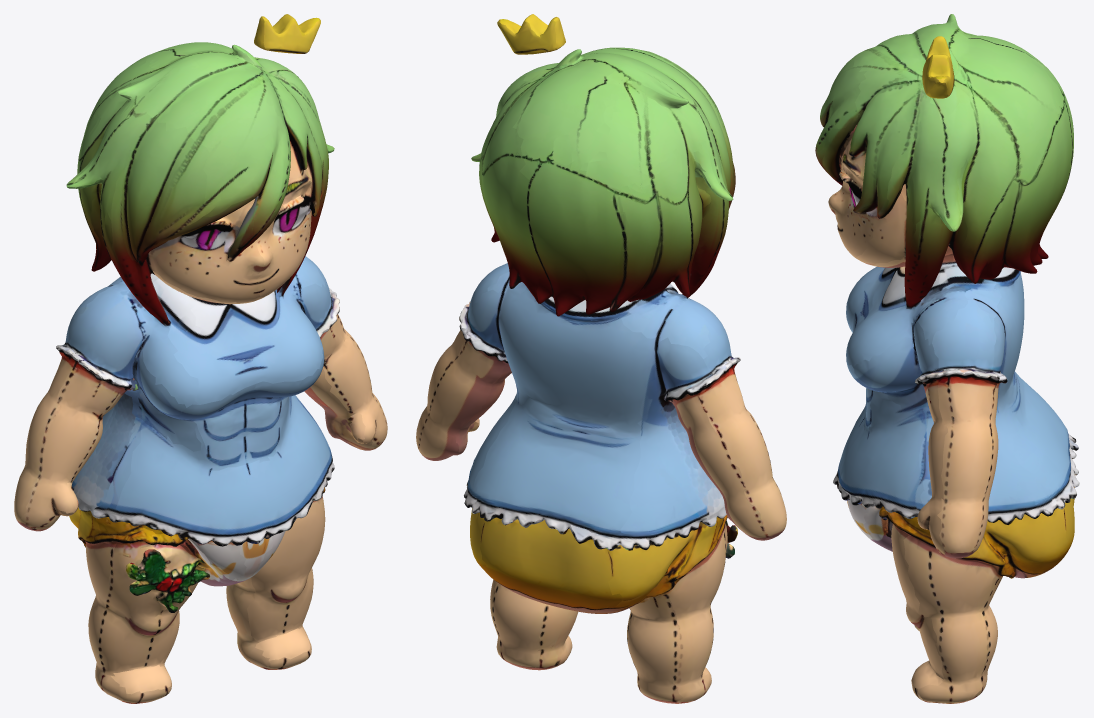
Rendered from bufffairy.glb.
3 renders of one model, left to right at view 1: azimuth 30°, elevation 25°; view 2: azimuth 150°, elevation 25°; view 3: azimuth 270°, elevation 25°, orthographic.
Parts seen in each view (by area): view 1: temp_mesh.ply; view 2: temp_mesh.ply; view 3: temp_mesh.ply.
Part boxes in pixels (x1,y1,x2,y2): temp_mesh.ply: (14,14,387,703); temp_mesh.ply: (416,14,786,703); temp_mesh.ply: (815,14,1079,703).
Size of the model in its own units: 1.17 by 1.97 by 0.7234.
Materials: 1 (1 with a texture image).
